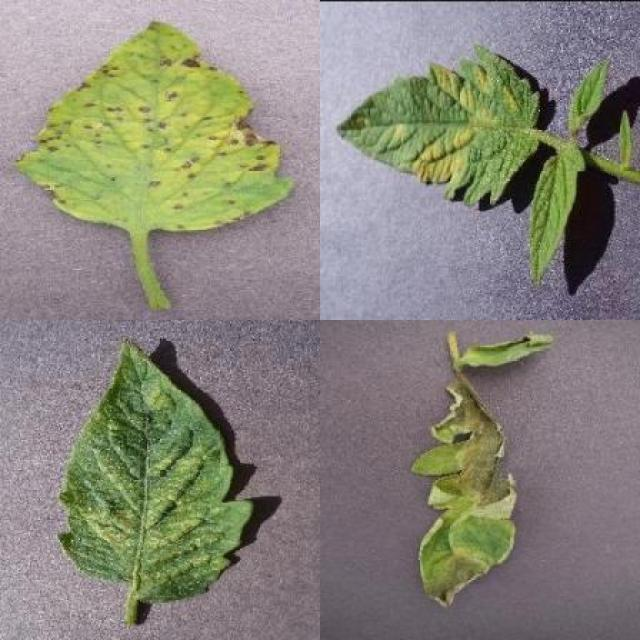Healthy: (529, 153, 584, 280)
Late Blight: (409, 372, 520, 605), (464, 332, 555, 368)
Leaf Mold: (334, 42, 540, 208)
Septoria: (21, 20, 295, 233)
Spider Mites: (60, 338, 256, 599)
